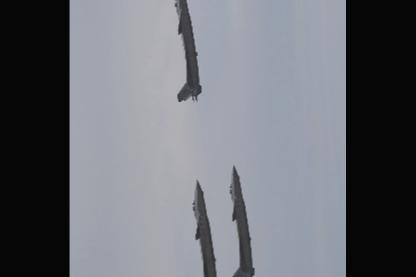F4: (228, 163, 255, 275), (173, 0, 202, 102), (191, 177, 220, 275)
